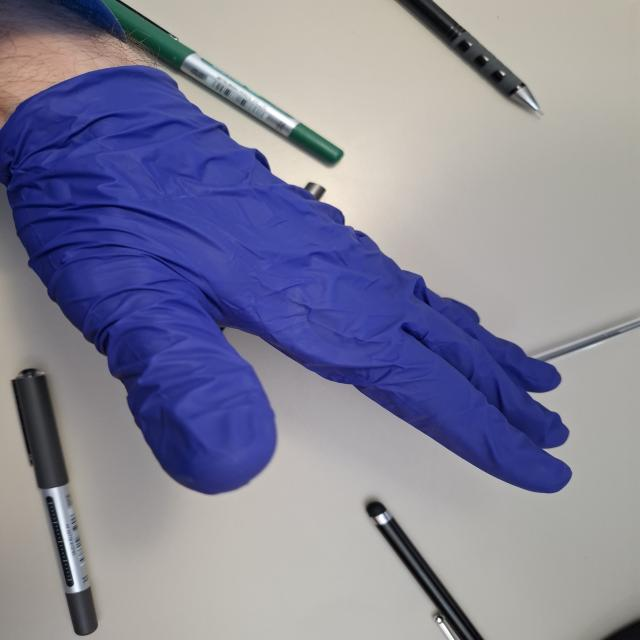glove_on: (1, 60, 578, 501)
